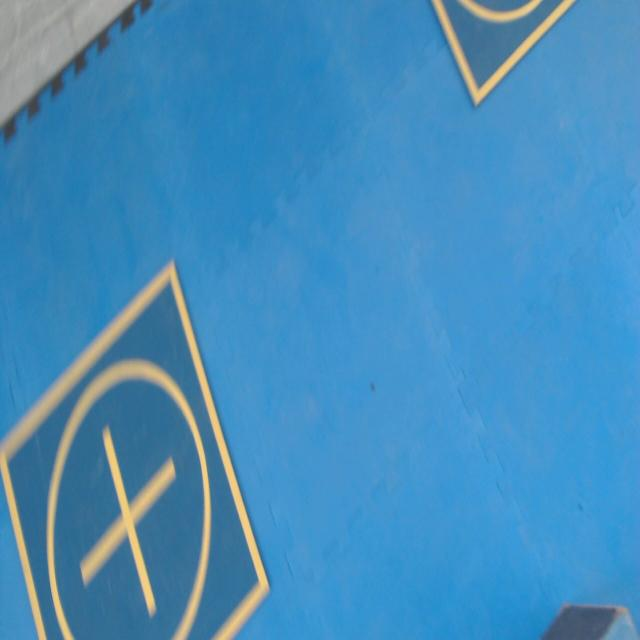base_pouso: (1, 259, 271, 639), (429, 0, 580, 107)
